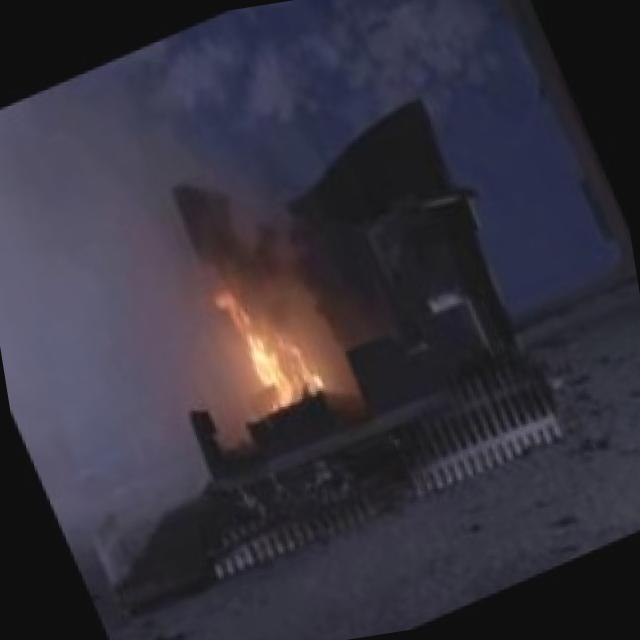fire: (173, 233, 358, 437)
smoke: (0, 70, 195, 441)
